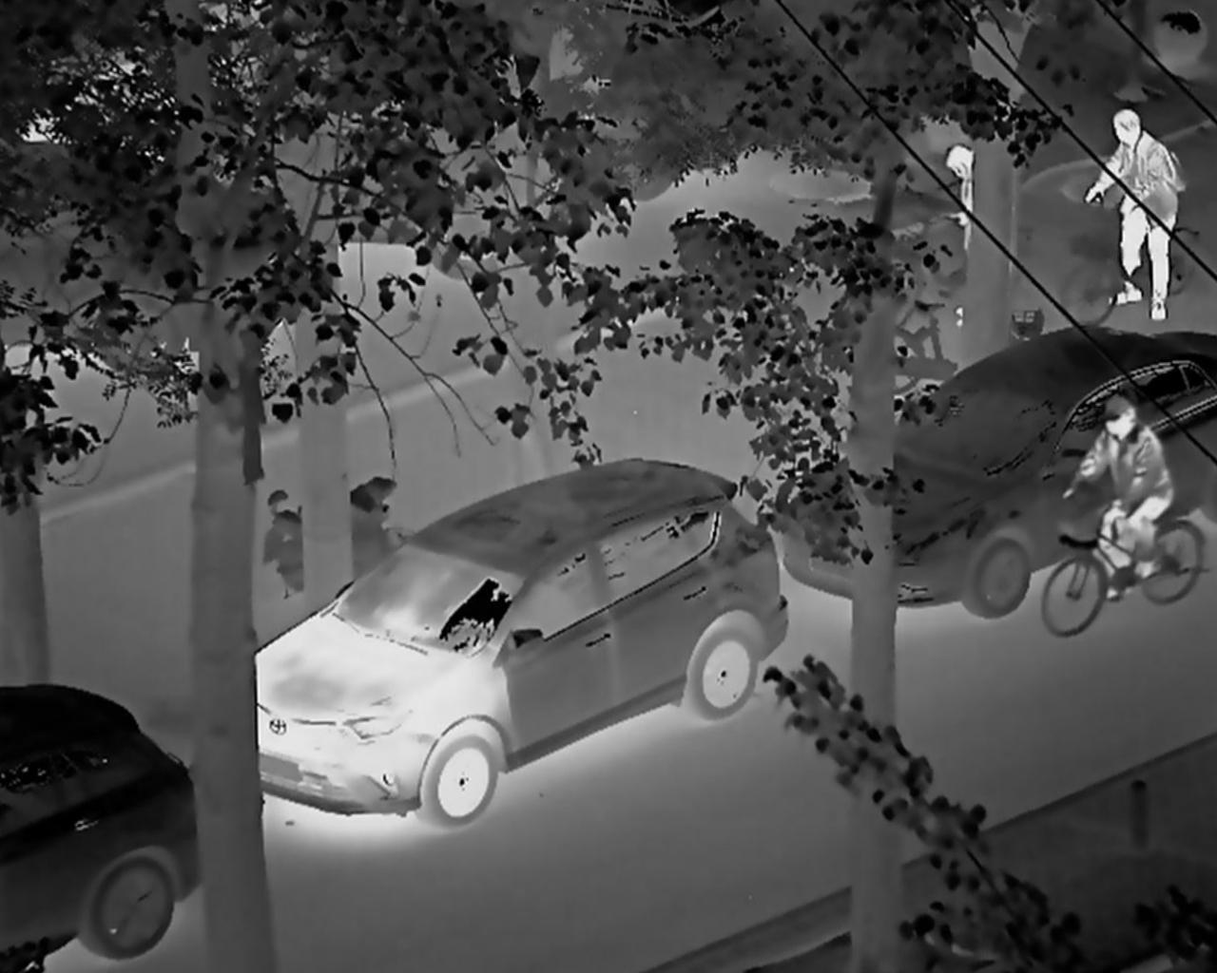person: (1053, 396, 1185, 623), (1084, 104, 1189, 322), (949, 147, 977, 313)
